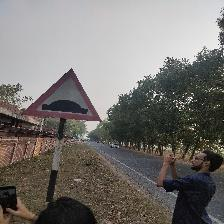Speed-breaker: (24, 70, 100, 120)
